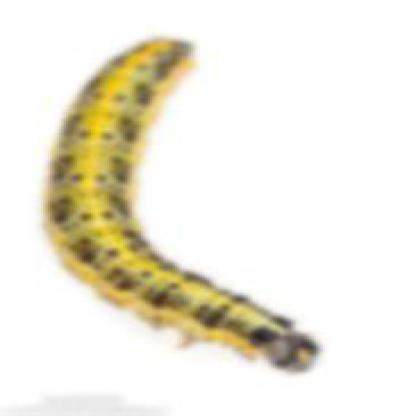pieris: (34, 38, 324, 373)
